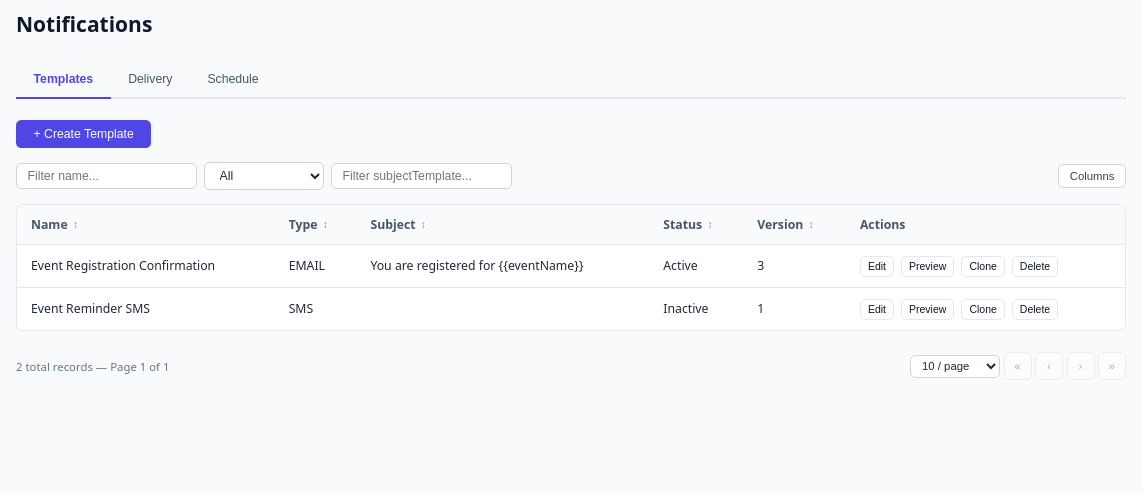
Test: NotificationsContent › Retry button visibility logic › shows Retry button only for failed records
The width and height of the screenshot is (1143, 493).
Note: Switch to Delivery tab
Click the tab "Delivery". click: [150, 80]
box: 111,62 -> 190,98
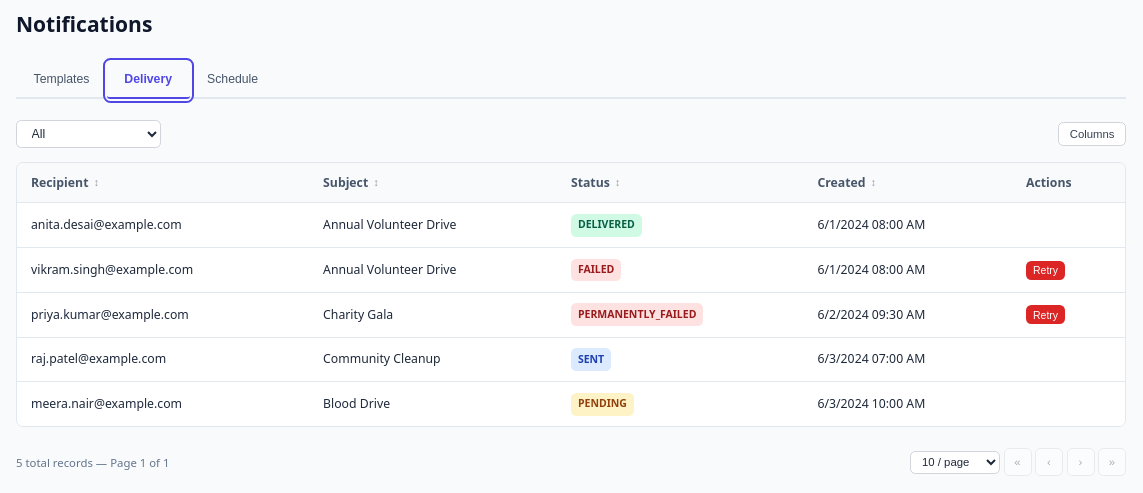
Result: the text "anita.desai@example.com" is shown at 17,203 -> 309,248
Result: the number of buttons "Retry" is 2 at 1026,260 -> 1065,280; 1026,305 -> 1065,324
